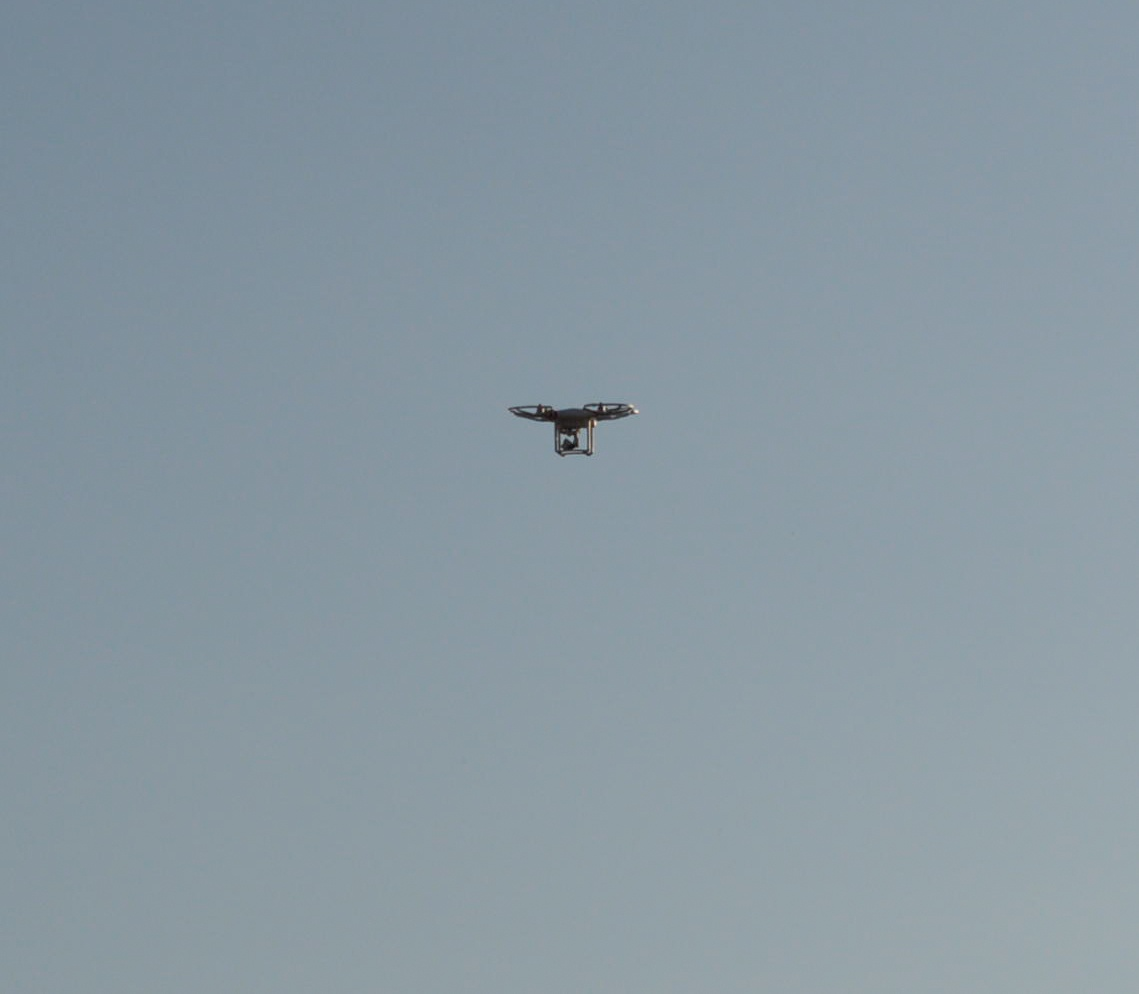DJI: (510, 400, 642, 460)
